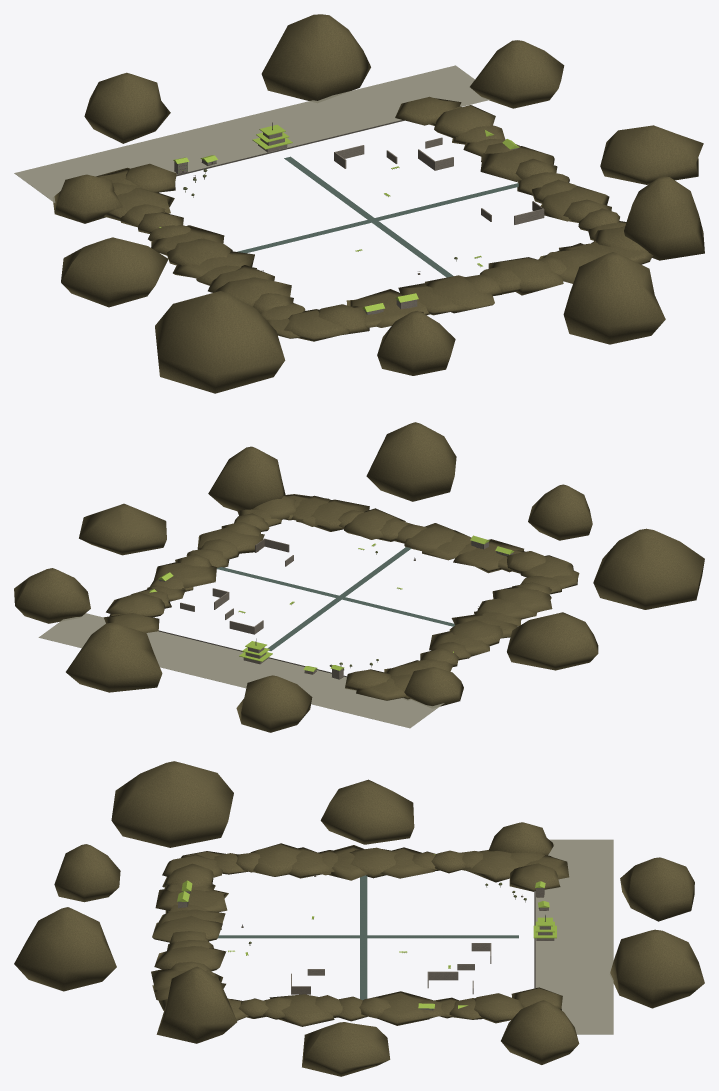
Rendered from tanada-lod2.glb.
3 views of the same model, one above another, from view 1: azimuth 30°, elevation 25°; view 2: azimuth 150°, elevation 25°; view 3: azimuth 270°, elevation 25° (orthographic). The views are drawn at different scales.
Visible parts, largest first — view 1: HB_tanada_LOD2_terrain, HB_tanada_LOD2_water, HB_tanada_LOD2_road, HB_tanada_LOD2_wall, HB_tanada_LOD2_accent; view 2: HB_tanada_LOD2_terrain, HB_tanada_LOD2_water, HB_tanada_LOD2_road, HB_tanada_LOD2_wall, HB_tanada_LOD2_accent; view 3: HB_tanada_LOD2_terrain, HB_tanada_LOD2_water, HB_tanada_LOD2_road, HB_tanada_LOD2_wall, HB_tanada_LOD2_accent.
Boxes of the visible parts, x1=… form: HB_tanada_LOD2_terrain: x1=53, y1=14, x2=704, y2=393; HB_tanada_LOD2_water: x1=14, y1=65, x2=489, y2=202; HB_tanada_LOD2_road: x1=237, y1=156, x2=518, y2=277; HB_tanada_LOD2_wall: x1=174, y1=132, x2=544, y2=314; HB_tanada_LOD2_accent: x1=159, y1=124, x2=519, y2=311; HB_tanada_LOD2_terrain: x1=14, y1=422, x2=704, y2=732; HB_tanada_LOD2_water: x1=38, y1=613, x2=444, y2=728; HB_tanada_LOD2_road: x1=216, y1=547, x2=454, y2=650; HB_tanada_LOD2_wall: x1=159, y1=538, x2=513, y2=678; HB_tanada_LOD2_accent: x1=149, y1=535, x2=514, y2=671; HB_tanada_LOD2_terrain: x1=14, y1=761, x2=704, y2=1076; HB_tanada_LOD2_water: x1=535, y1=839, x2=613, y2=1034; HB_tanada_LOD2_road: x1=218, y1=875, x2=518, y2=999; HB_tanada_LOD2_wall: x1=178, y1=875, x2=554, y2=1010; HB_tanada_LOD2_accent: x1=177, y1=854, x2=556, y2=1008.
Bounding box in the file's own units: 604 × 62.36 × 628.
Materials: 9 (7 with a texture image).
